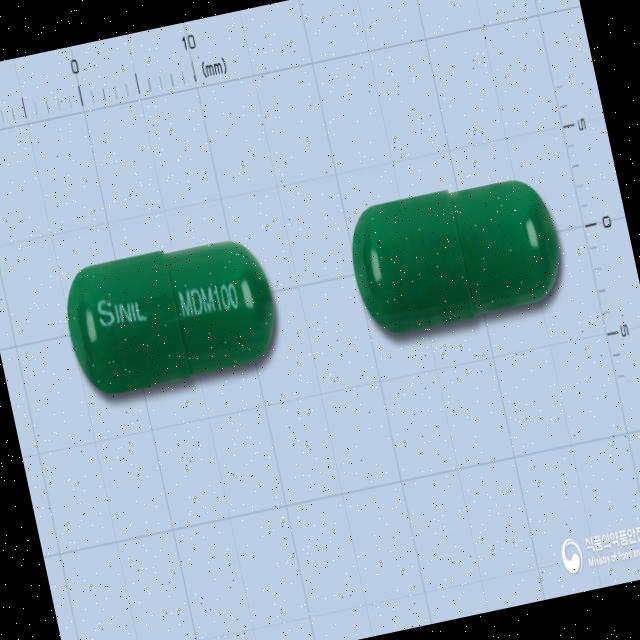Monodoxy-M Cap- Sinil: (340, 166, 572, 344), (56, 230, 286, 407)
